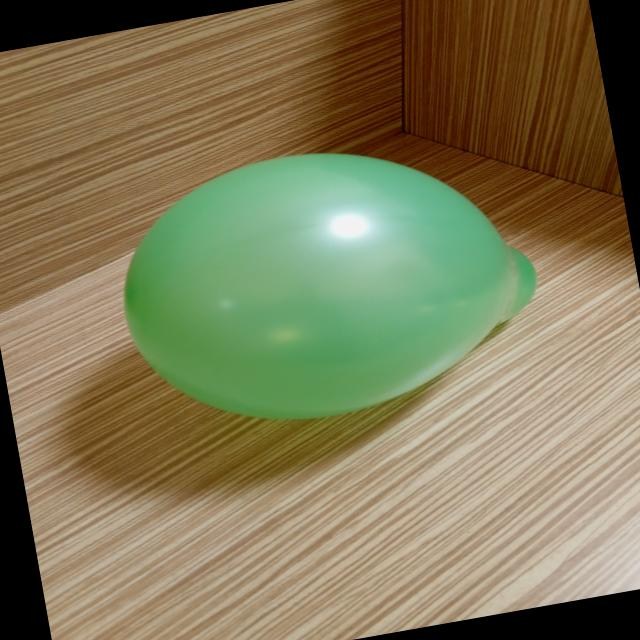balloon: (417, 305, 435, 313)
